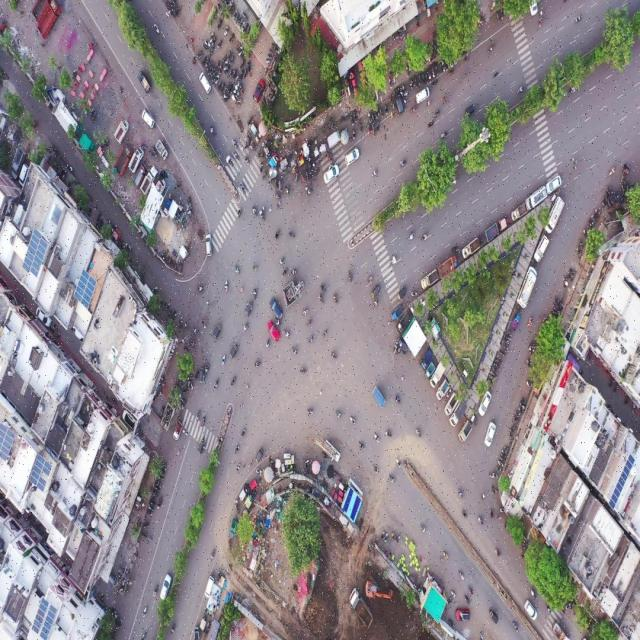3W: (487, 610, 500, 624), (197, 438, 206, 457), (243, 300, 252, 319), (212, 323, 222, 340), (465, 104, 475, 120), (229, 344, 239, 359), (255, 448, 265, 463), (397, 285, 407, 300), (370, 285, 381, 298)
Cars: (534, 232, 550, 264), (544, 172, 564, 194), (160, 570, 172, 602), (323, 162, 339, 186), (484, 419, 497, 448), (251, 79, 265, 105), (453, 605, 471, 625), (140, 109, 157, 129), (478, 391, 491, 417), (344, 148, 360, 168), (524, 600, 539, 621), (198, 70, 211, 94), (269, 298, 283, 320), (394, 88, 404, 116), (268, 319, 278, 342), (204, 575, 214, 598), (414, 87, 429, 102), (205, 235, 213, 261)
LCV: (545, 196, 566, 234), (518, 268, 536, 310), (417, 266, 440, 293), (526, 182, 546, 212), (457, 419, 475, 447), (460, 237, 480, 262), (510, 199, 528, 226), (438, 256, 457, 280), (322, 439, 341, 462), (114, 117, 130, 143), (430, 362, 446, 388), (444, 391, 459, 417), (326, 127, 342, 149), (451, 402, 466, 425), (129, 146, 142, 172), (371, 386, 384, 410), (156, 140, 170, 160), (396, 312, 410, 332), (420, 349, 432, 372), (510, 312, 521, 333), (398, 337, 408, 357), (173, 421, 183, 440), (391, 305, 402, 322)
M2W: (136, 70, 151, 95), (396, 156, 409, 171), (493, 544, 503, 562), (511, 617, 520, 636), (152, 20, 162, 37), (606, 164, 616, 180), (418, 520, 429, 534), (407, 228, 416, 244), (574, 12, 584, 26), (486, 43, 498, 54), (392, 393, 402, 406), (477, 513, 485, 529), (455, 487, 464, 501), (152, 582, 159, 600), (440, 548, 450, 560), (372, 464, 382, 476), (225, 154, 234, 167), (208, 548, 216, 562), (387, 473, 396, 485), (426, 117, 435, 129), (220, 353, 227, 368), (141, 605, 149, 618), (139, 627, 147, 640), (394, 458, 402, 471), (370, 167, 378, 180), (527, 314, 533, 331), (286, 231, 296, 241), (517, 84, 524, 98), (264, 338, 271, 352), (240, 182, 247, 196), (261, 169, 268, 183), (421, 232, 429, 244), (223, 278, 229, 294), (331, 294, 339, 306), (366, 275, 374, 287), (461, 507, 468, 520), (306, 316, 313, 329), (529, 587, 536, 600), (236, 205, 242, 220), (439, 130, 448, 140), (348, 416, 356, 427), (306, 333, 314, 344), (170, 622, 177, 634), (239, 427, 246, 439), (243, 321, 249, 335), (251, 287, 257, 301), (281, 266, 288, 278), (358, 440, 365, 452), (458, 569, 464, 583), (216, 18, 223, 30), (228, 32, 235, 44), (253, 360, 261, 370), (290, 346, 298, 356), (301, 308, 309, 318), (414, 428, 422, 438), (449, 590, 457, 600), (157, 496, 162, 512), (200, 415, 206, 428), (213, 376, 219, 389), (204, 361, 210, 374), (195, 409, 201, 422), (260, 209, 266, 222), (258, 162, 264, 175), (233, 443, 240, 454), (200, 55, 207, 66), (194, 367, 199, 382), (234, 265, 240, 277), (317, 294, 323, 306), (319, 285, 328, 293), (274, 229, 280, 241), (252, 206, 258, 218), (210, 125, 216, 137), (432, 109, 440, 118), (223, 25, 229, 37), (551, 308, 559, 317), (568, 86, 576, 95), (291, 267, 298, 277), (244, 154, 249, 168), (232, 151, 239, 161), (386, 429, 393, 439), (464, 592, 469, 606), (233, 43, 240, 53), (216, 38, 223, 48), (388, 77, 393, 91), (235, 462, 241, 473), (284, 329, 290, 340), (238, 45, 244, 56), (215, 74, 221, 85), (508, 431, 514, 442), (576, 247, 582, 258), (347, 271, 352, 284), (489, 507, 494, 520), (408, 78, 413, 91), (389, 94, 394, 107), (197, 284, 205, 292), (498, 349, 506, 357), (230, 376, 236, 386), (306, 187, 312, 197), (232, 140, 238, 150), (374, 432, 379, 444), (147, 149, 153, 159), (216, 2, 222, 12), (209, 30, 214, 42), (492, 471, 498, 481), (552, 296, 558, 306), (358, 123, 363, 135), (349, 114, 354, 126), (327, 152, 333, 162), (246, 116, 252, 126), (306, 409, 314, 416), (490, 489, 497, 497), (502, 344, 509, 352), (494, 356, 502, 363), (491, 367, 499, 374), (525, 380, 532, 388), (509, 425, 516, 433), (442, 60, 446, 74), (335, 409, 341, 418), (322, 329, 328, 338), (299, 368, 308, 374), (372, 299, 378, 308), (279, 257, 285, 266), (432, 78, 438, 87), (247, 61, 251, 74), (331, 350, 336, 360), (468, 585, 473, 595), (240, 58, 245, 68), (220, 83, 225, 93), (140, 143, 147, 150), (514, 409, 521, 416), (567, 274, 574, 281), (568, 268, 575, 275), (142, 523, 150, 529), (147, 510, 153, 518), (236, 75, 240, 87), (216, 59, 220, 71), (431, 66, 435, 78), (197, 49, 202, 58), (233, 69, 238, 78), (434, 65, 439, 74), (240, 83, 244, 94), (301, 173, 305, 184), (255, 468, 262, 474), (201, 44, 208, 50), (497, 460, 503, 467), (512, 416, 518, 423), (152, 148, 156, 158), (243, 68, 247, 78), (228, 50, 232, 60), (210, 44, 214, 54), (206, 57, 210, 67), (218, 64, 222, 74), (223, 61, 227, 71), (352, 129, 356, 139), (294, 172, 298, 182), (385, 103, 388, 116), (141, 532, 147, 538), (230, 56, 234, 65), (204, 40, 210, 46), (228, 69, 232, 78), (414, 75, 417, 87), (418, 74, 421, 86), (240, 69, 243, 80), (428, 71, 431, 82), (354, 112, 357, 123), (306, 171, 309, 182), (155, 482, 161, 487), (506, 331, 512, 336), (422, 74, 425, 84), (495, 468, 501, 472), (440, 62, 442, 74), (426, 73, 428, 83)
Truck: (346, 589, 375, 631), (33, 0, 61, 40), (114, 143, 131, 179)
